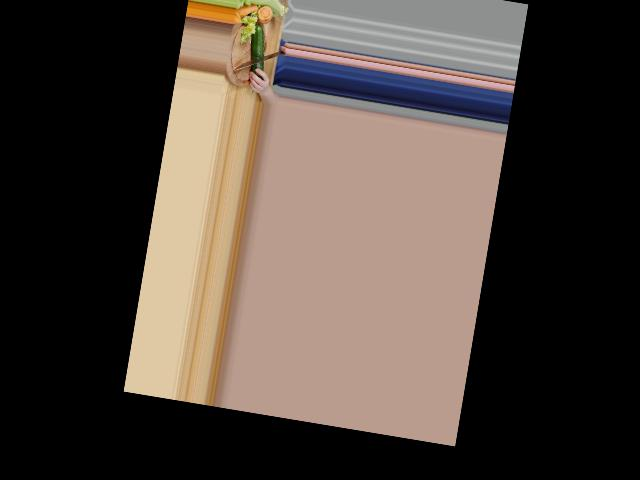cucumber: (245, 23, 270, 79)
